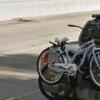Bicycle: (29, 23, 100, 96)
